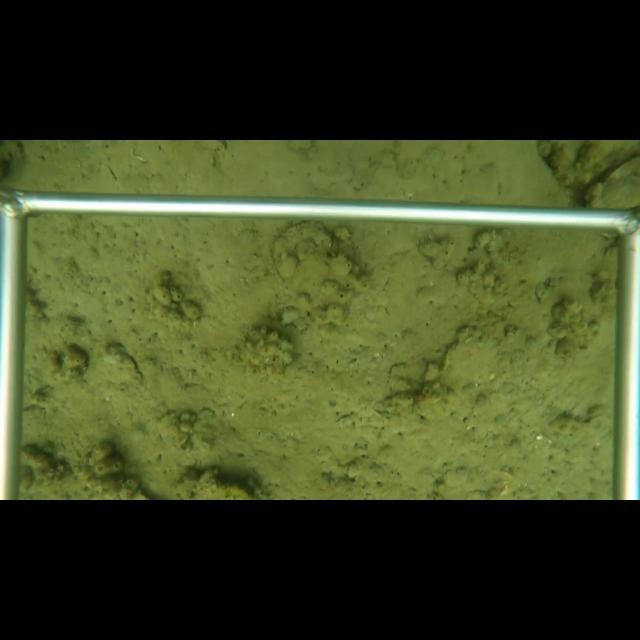Oyster-Closed: (418, 330, 498, 426), (267, 220, 333, 302), (584, 154, 640, 236)
